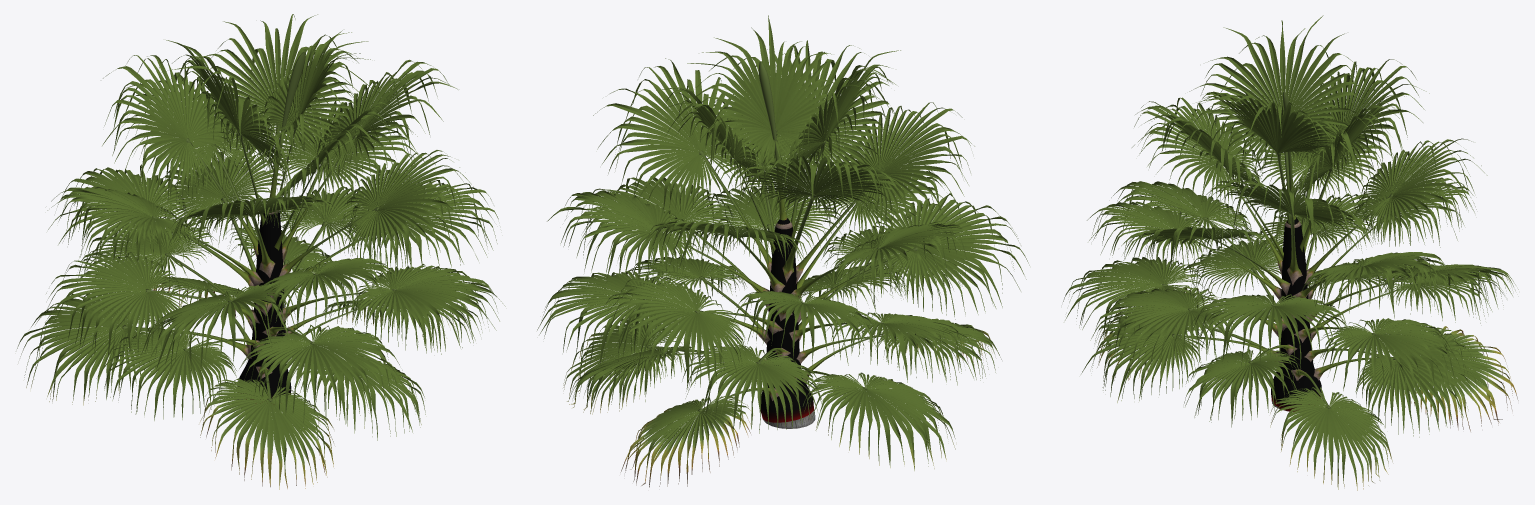
File: Washingtonia filifera HD_Curved mat 0_LOD0.fbx
The picture shows the model from 3 angles, left to right: view 1: azimuth 30°, elevation 25°; view 2: azimuth 150°, elevation 25°; view 3: azimuth 270°, elevation 25°; orthographic projection. The views are drawn at different scales.
Parts seen in each view (by area): view 1: Washingtonia_filifera_HD; view 2: Washingtonia_filifera_HD; view 3: Washingtonia_filifera_HD.
Part boxes in pixels (<box>): Washingtonia_filifera_HD: <box>17,14,505,489</box>; Washingtonia_filifera_HD: <box>537,15,1029,487</box>; Washingtonia_filifera_HD: <box>1063,15,1518,490</box>.
Size of the model in its own units: 4.06 by 3.45 by 4.11.
